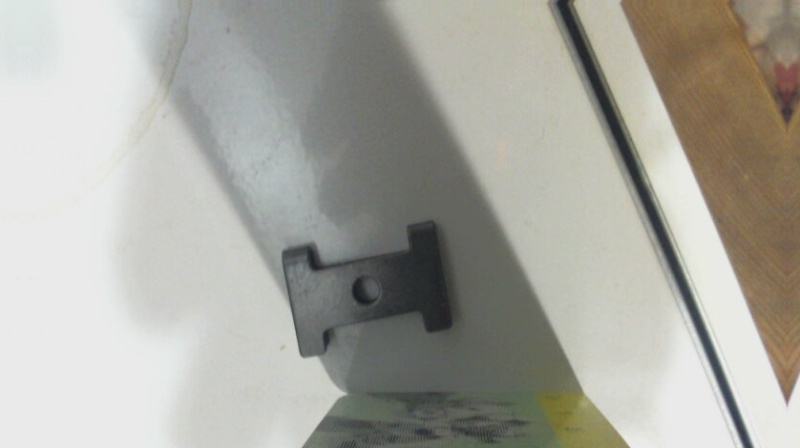O002: (278, 218, 454, 359)
